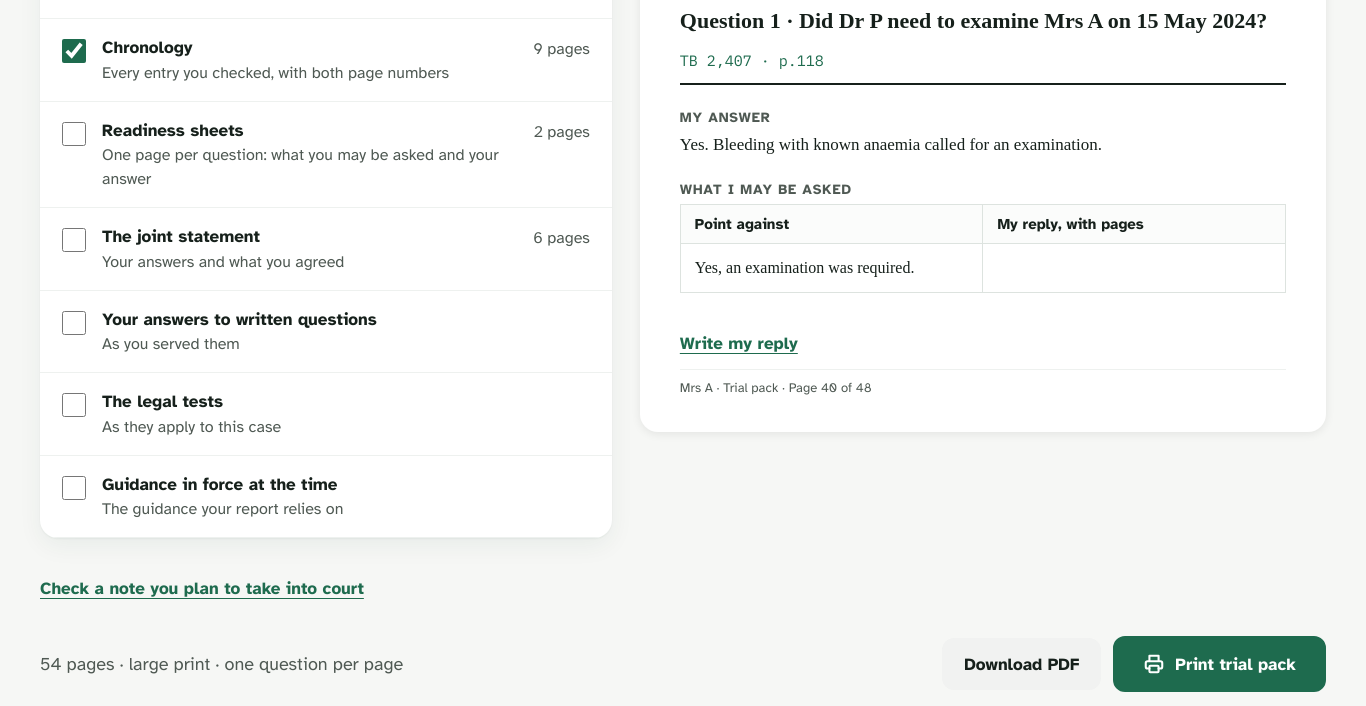
Test case: saving what goes in sends the sections with the settings' version
The image size is (1366, 706).
(page scrolled)
Expected: the button "Save what goes in" is not shown
Click the checkbox labelled "Your answers to written questions".
click(74, 323)  # box [62, 311, 86, 335]
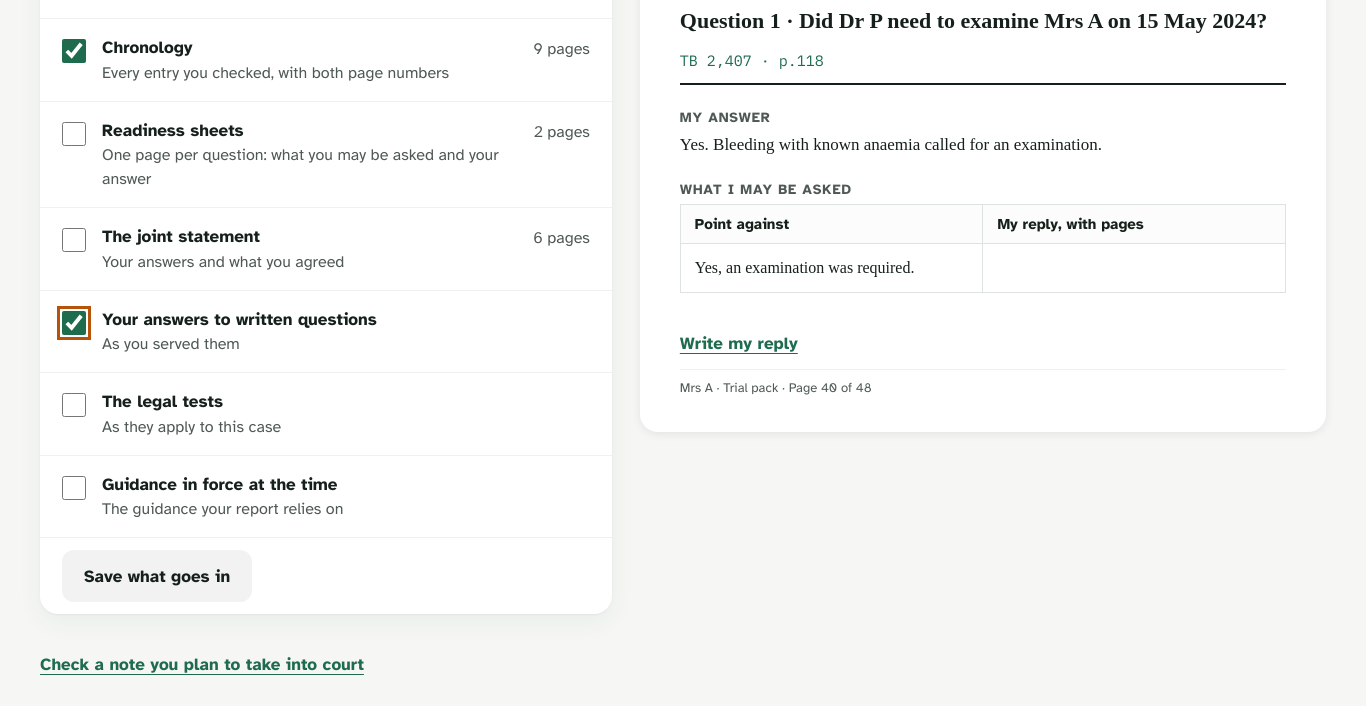
Click the button "Save what goes in".
click(157, 576)  # box [62, 550, 252, 602]
(page scrolled)
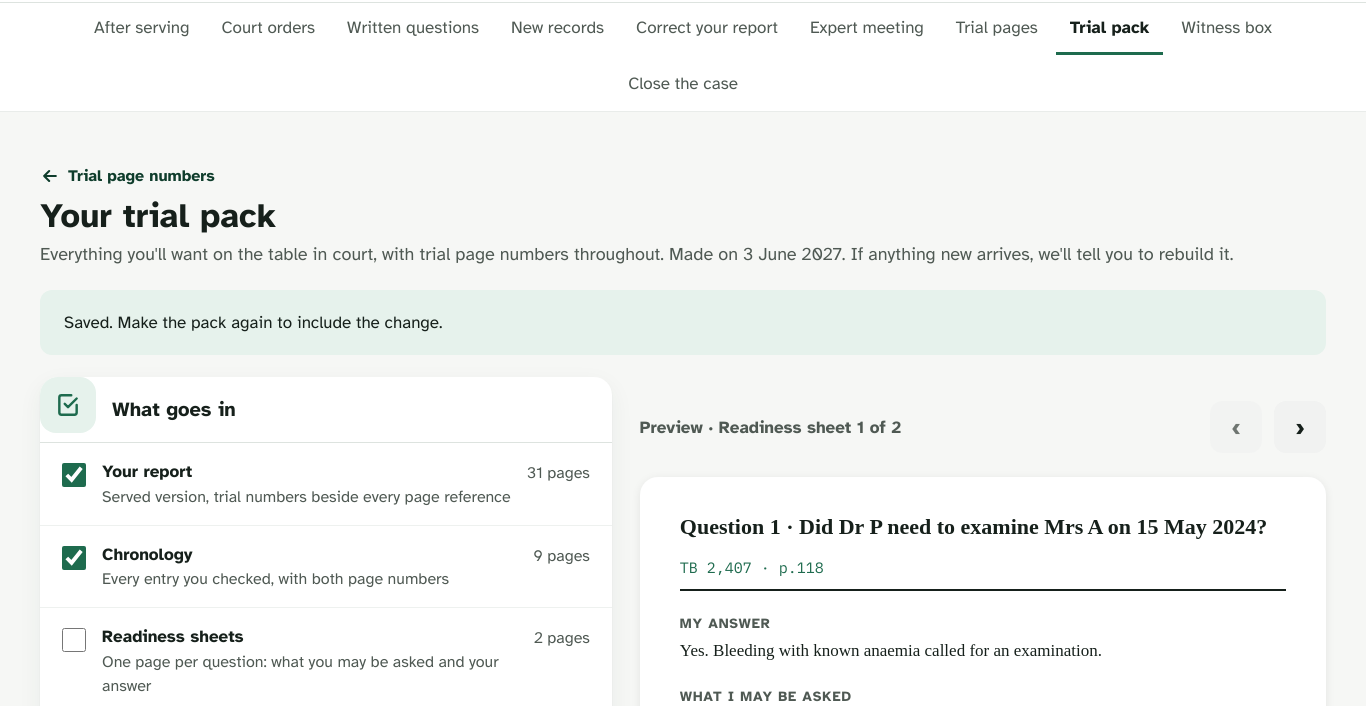
Expected: the text "Saved. Make the pack again to include the change." is shown, [64, 312, 442, 333]
